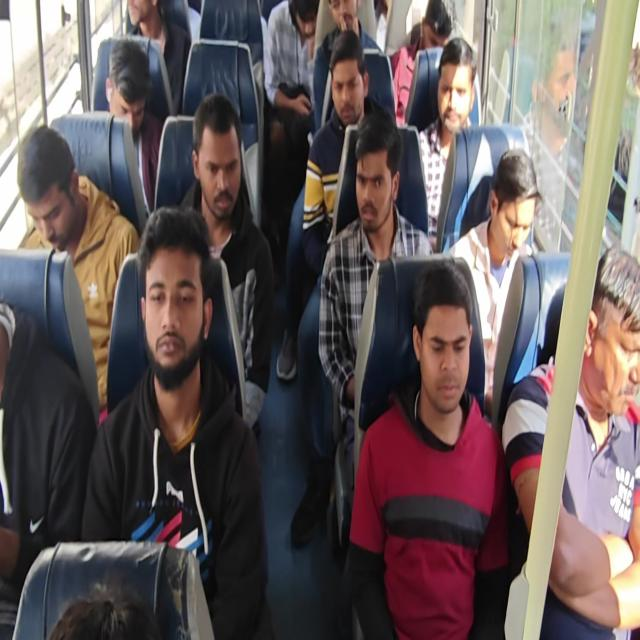person: (128, 200, 218, 375), (402, 259, 477, 415), (571, 243, 640, 410), (14, 114, 89, 248), (48, 568, 172, 640), (476, 146, 542, 267), (345, 104, 400, 234), (187, 108, 251, 219), (92, 30, 162, 131), (429, 31, 481, 132), (324, 41, 375, 130), (421, 0, 455, 54), (329, 0, 369, 30), (291, 4, 324, 34), (123, 0, 157, 28)
